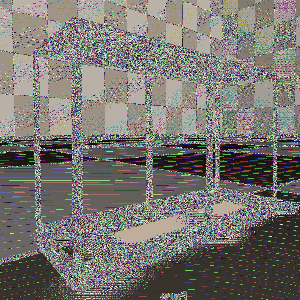Rack: (31, 15, 278, 294)
